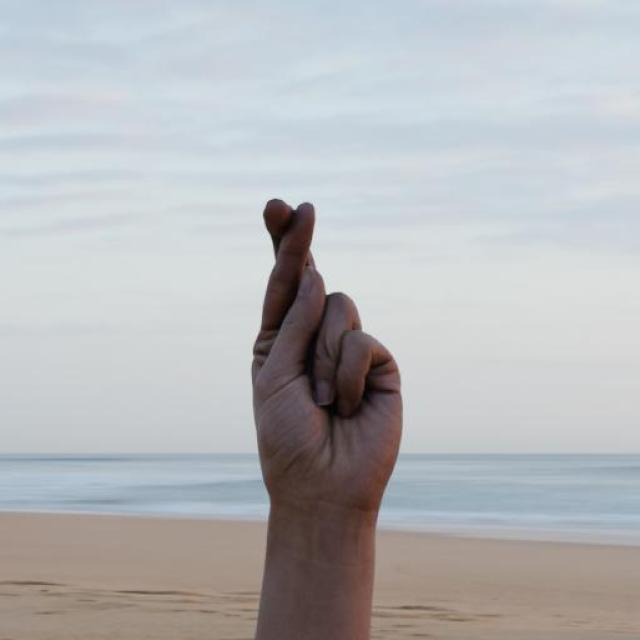R: (249, 191, 405, 499)
